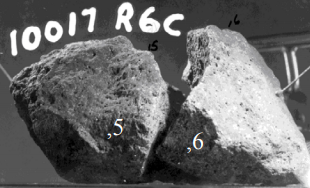Basalt: (181, 37, 299, 181), (13, 55, 152, 177)
